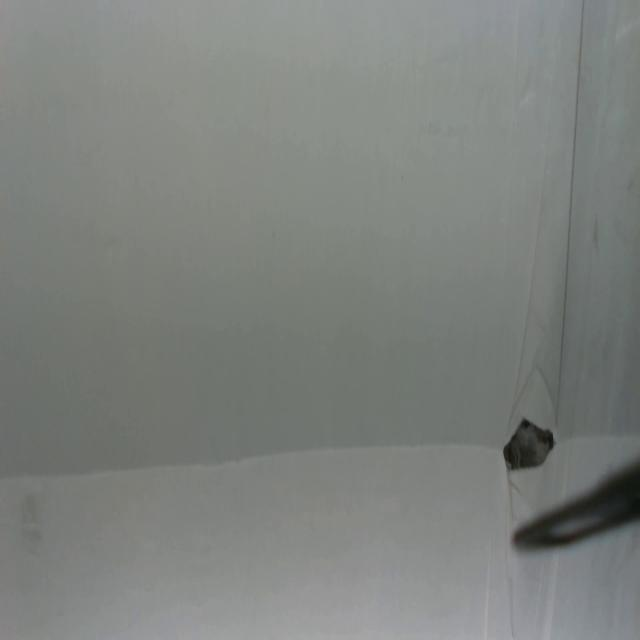crease: (510, 74, 555, 414), (556, 0, 589, 406), (544, 553, 560, 640), (483, 543, 493, 640)
hole: (501, 415, 556, 476)
